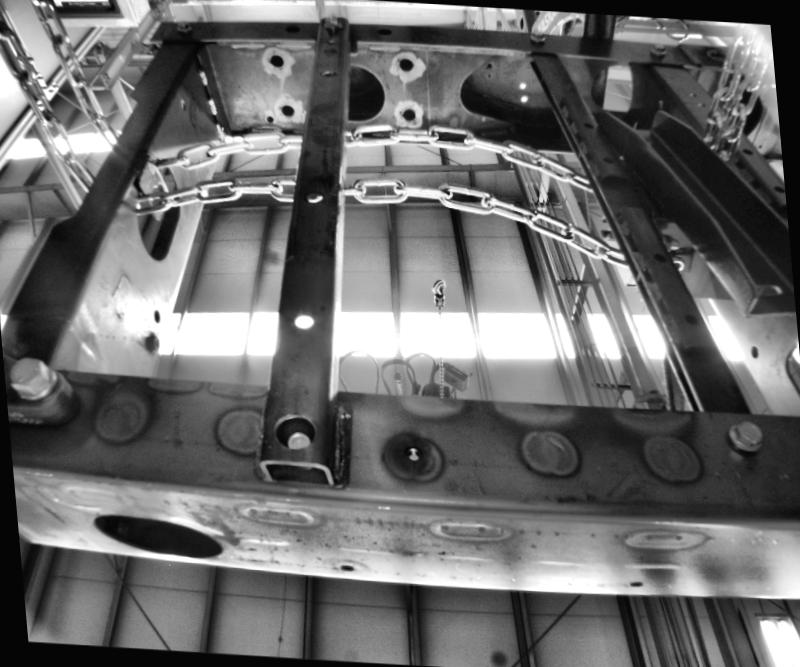bolt: (8, 349, 62, 412), (724, 420, 770, 454), (140, 331, 163, 356), (526, 27, 551, 42), (172, 18, 192, 34)
bracket: (128, 138, 175, 223)
hole: (73, 504, 232, 559), (274, 411, 314, 453), (290, 312, 318, 336), (400, 442, 424, 464), (304, 186, 325, 202), (397, 101, 415, 118), (266, 53, 284, 69), (281, 102, 297, 118), (746, 344, 762, 360), (318, 66, 337, 78), (396, 52, 412, 65), (282, 22, 302, 31), (628, 578, 642, 590), (340, 561, 355, 572), (150, 309, 160, 322), (376, 27, 392, 34), (324, 30, 334, 38), (266, 114, 274, 121)
welding: (196, 66, 210, 84), (206, 98, 218, 117), (214, 121, 225, 140)
